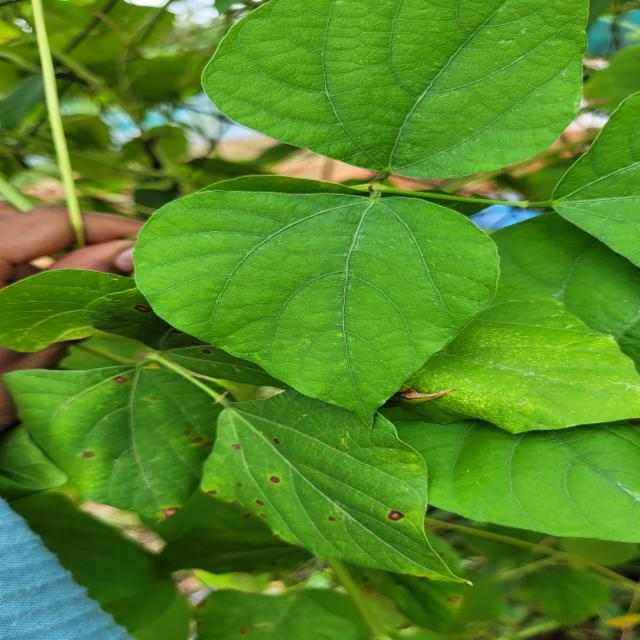Dolicos bean_cercospora leaf spot: (195, 393, 478, 586), (0, 358, 217, 520)
Dolicos bean_healthy: (116, 173, 506, 410), (204, 0, 587, 181), (393, 375, 640, 551)
